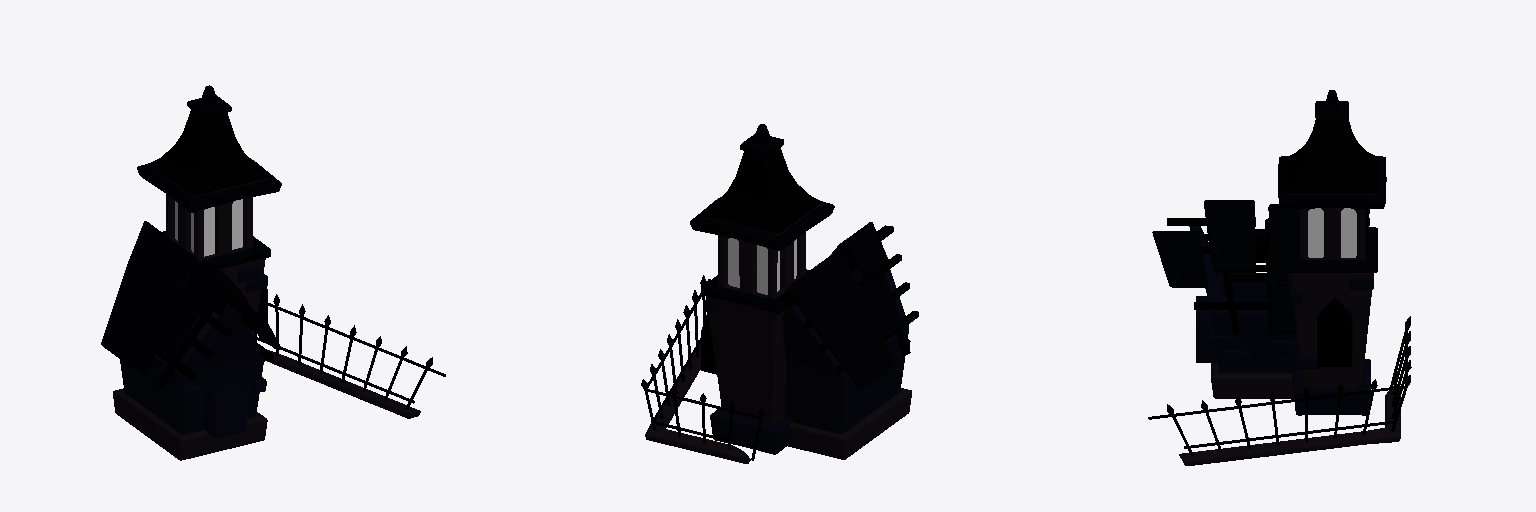
File: housetry.obj
3 renders of one model, left to right at view 1: azimuth 30°, elevation 25°; view 2: azimuth 150°, elevation 25°; view 3: azimuth 270°, elevation 25°, orthographic.
Visible parts, largest first — view 1: Plane.054, Plane.060, Plane.061, Plane.046, Plane.052, Plane.055, Plane.043, Plane.042, Plane.044, Plane.048, Plane.047, Plane.059; view 2: Plane.060, Plane.054, Plane.061, Plane.046, Plane.043, Plane.044, Plane.042, Plane.045, Plane.048, Plane.052, Plane.047, Plane.059 (+1 smaller); view 3: Plane.060, Plane.054, Plane.061, Plane.043, Plane.044, Plane.052, Plane.042, Plane.046, Plane.050, Plane.045, Plane.047, Plane.048 (+2 smaller).
Boxes of the visible parts, <box> form: Plane.054: <box>101,221,280,369</box>; Plane.060: <box>150,110,268,364</box>; Plane.061: <box>120,304,264,434</box>; Plane.046: <box>113,388,267,460</box>; Plane.052: <box>139,268,273,387</box>; Plane.055: <box>204,369,246,438</box>; Plane.043: <box>254,294,445,408</box>; Plane.042: <box>137,158,281,212</box>; Plane.044: <box>266,350,420,418</box>; Plane.048: <box>175,199,242,256</box>; Plane.047: <box>162,231,270,268</box>; Plane.059: <box>187,85,231,117</box>; Plane.060: <box>703,148,821,424</box>; Plane.054: <box>780,222,902,389</box>; Plane.061: <box>782,242,908,433</box>; Plane.046: <box>788,388,911,459</box>; Plane.043: <box>641,275,764,460</box>; Plane.044: <box>645,344,750,463</box>; Plane.042: <box>690,197,834,250</box>; Plane.045: <box>710,406,792,454</box>; Plane.048: <box>728,238,796,294</box>; Plane.052: <box>782,226,918,373</box>; Plane.047: <box>701,269,809,313</box>; Plane.059: <box>740,124,783,155</box>; Plane.060: <box>1288,119,1376,386</box>; Plane.054: <box>1152,200,1369,333</box>; Plane.061: <box>1189,226,1368,372</box>; Plane.043: <box>1148,316,1411,455</box>; Plane.044: <box>1179,389,1400,465</box>; Plane.052: <box>1167,218,1369,334</box>; Plane.042: <box>1278,156,1386,209</box>; Plane.046: <box>1211,362,1293,398</box>; Plane.050: <box>1317,298,1351,366</box>; Plane.045: <box>1293,359,1370,415</box>; Plane.047: <box>1287,227,1377,272</box>; Plane.048: <box>1308,208,1356,257</box>.
Size of the model in its own units: 7.11 by 8.45 by 6.48.